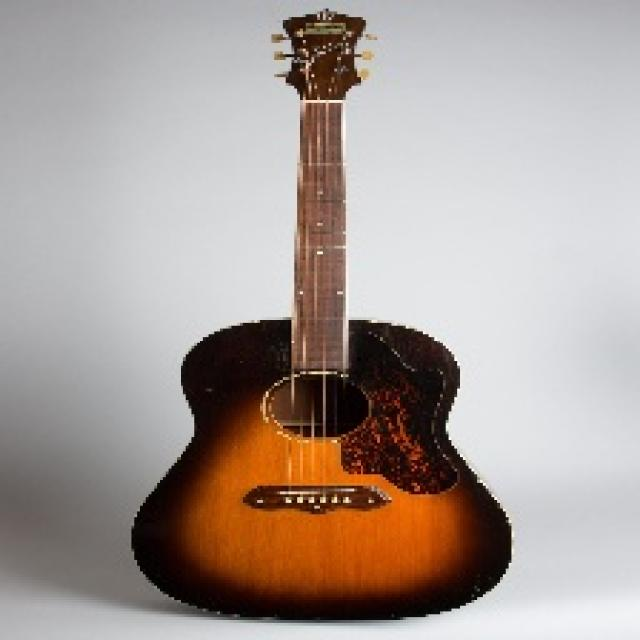guitar: (129, 8, 513, 624)
